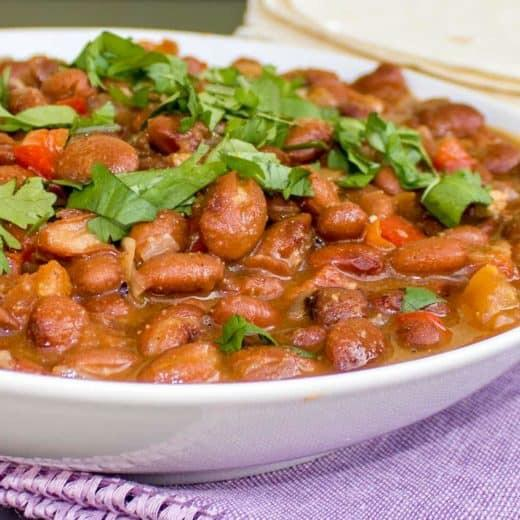RajmaCurry: (0, 28, 520, 384)
